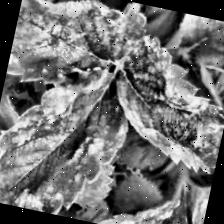Powdery Mildew Leaf: (0, 51, 140, 224), (99, 29, 224, 177), (4, 0, 152, 105), (82, 169, 209, 224)
